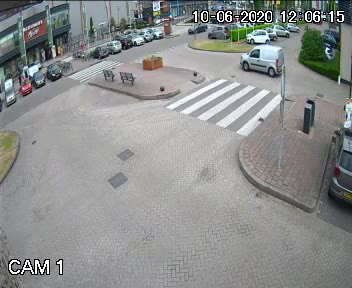car: (241, 38, 291, 82), (183, 22, 206, 34)
